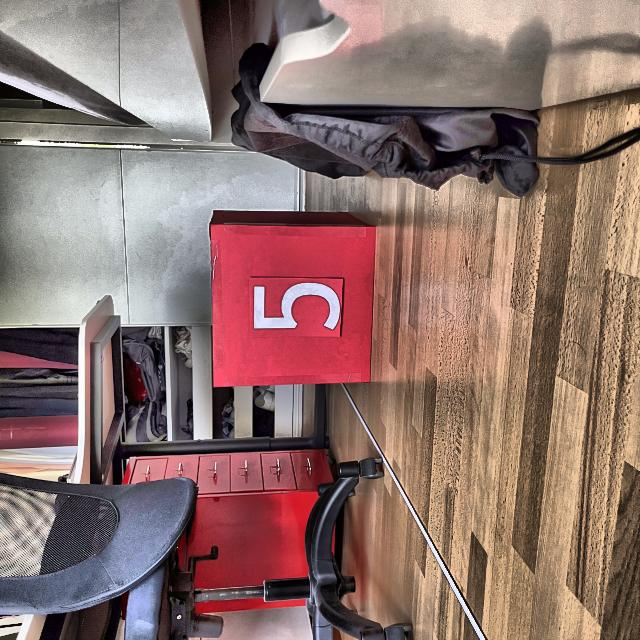five: (252, 282, 340, 332)
red box: (208, 206, 374, 388)
